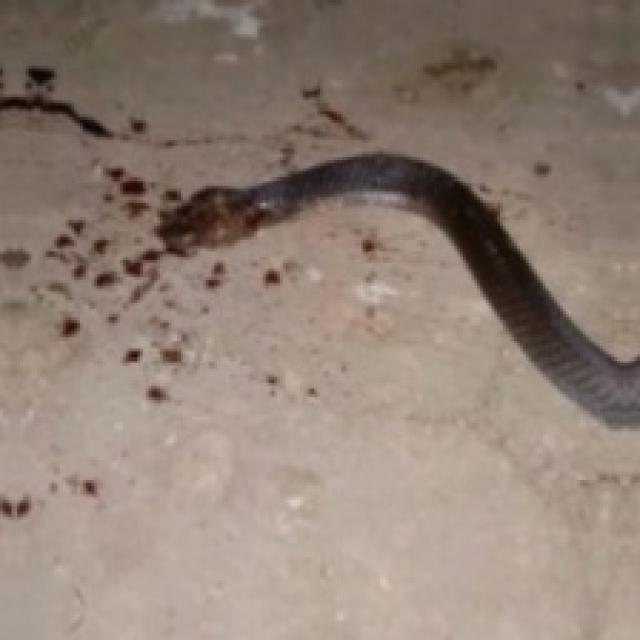king cobra: (157, 151, 637, 426)
